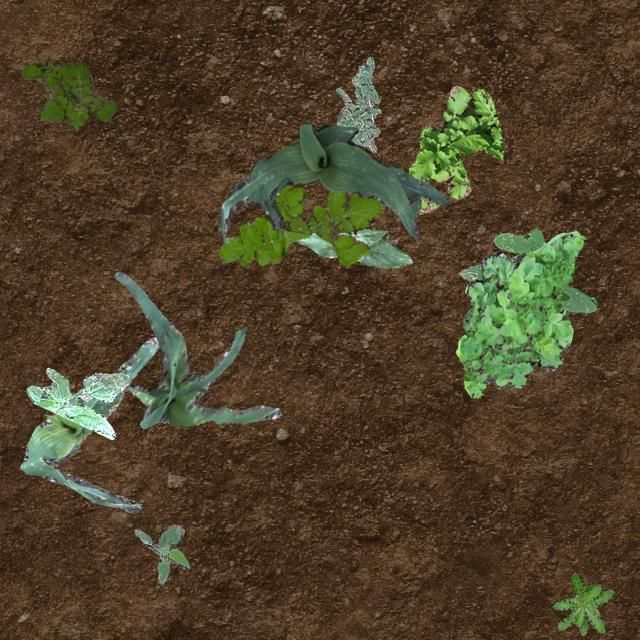crop: (217, 122, 448, 242), (114, 270, 280, 428), (20, 336, 158, 512), (294, 226, 412, 268)
weed: (454, 230, 582, 396), (218, 182, 384, 266), (408, 84, 503, 212), (458, 228, 596, 312), (26, 366, 130, 438), (20, 59, 116, 130), (334, 56, 380, 152), (552, 572, 614, 634), (133, 524, 190, 584)
